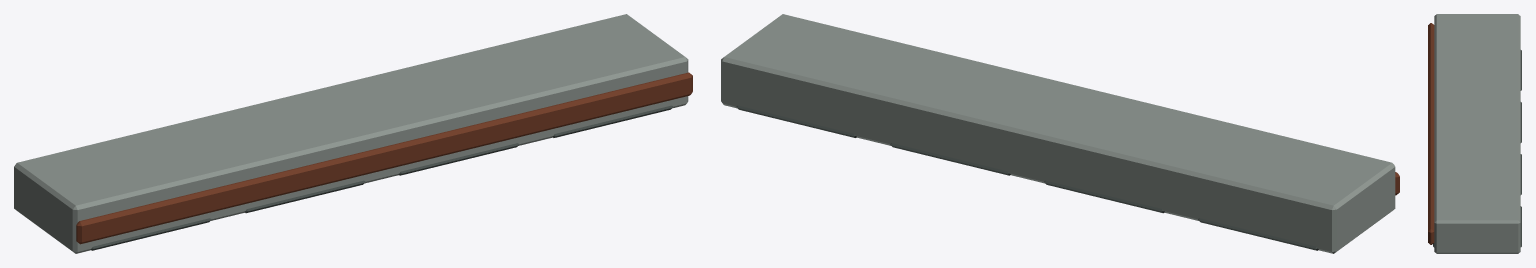
File: RUIN_WALL_Ledge_4.glb
3 renders of one model, left to right at view 1: azimuth 30°, elevation 25°; view 2: azimuth 150°, elevation 25°; view 3: azimuth 270°, elevation 25°, orthographic. The views are drawn at different scales.
Visible parts, largest first — view 1: RUIN_WALL_Ledge_4; view 2: RUIN_WALL_Ledge_4; view 3: RUIN_WALL_Ledge_4.
Part boxes in pixels (box(x1,y1,x2,y2)): RUIN_WALL_Ledge_4: box(14, 14, 692, 253); RUIN_WALL_Ledge_4: box(721, 14, 1399, 253); RUIN_WALL_Ledge_4: box(1428, 14, 1521, 253).
Size of the model in its own units: 4 by 0.3 by 0.76.
